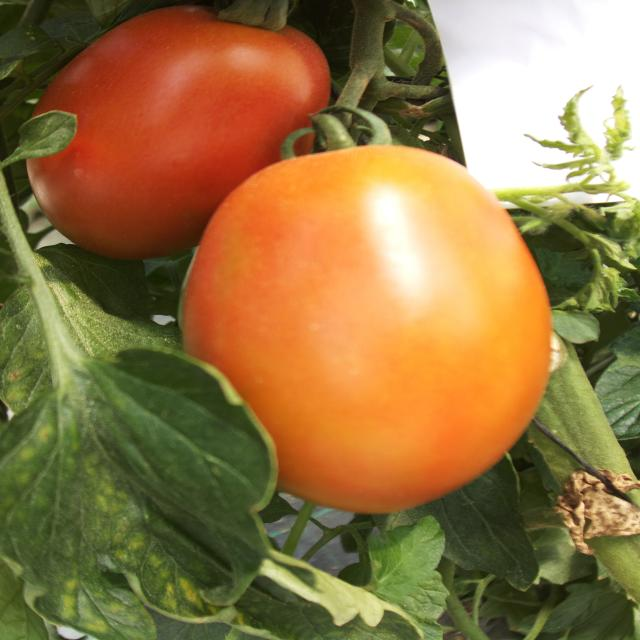sari: (168, 151, 556, 513)
